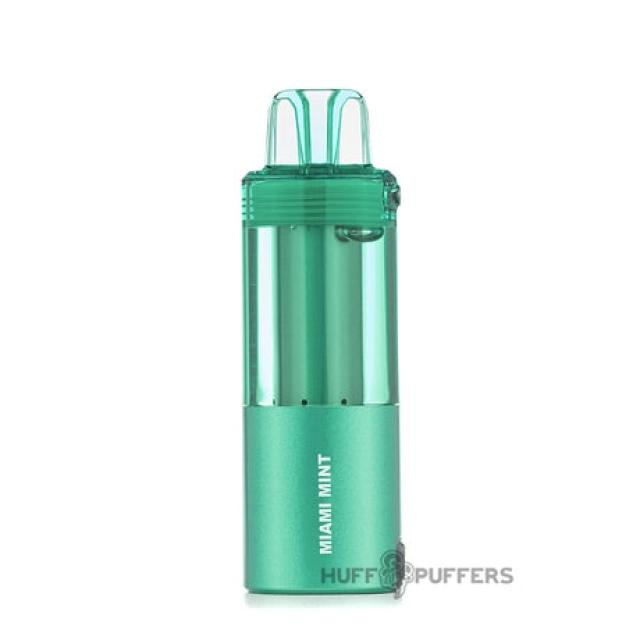Vape-images: (238, 86, 405, 597)
